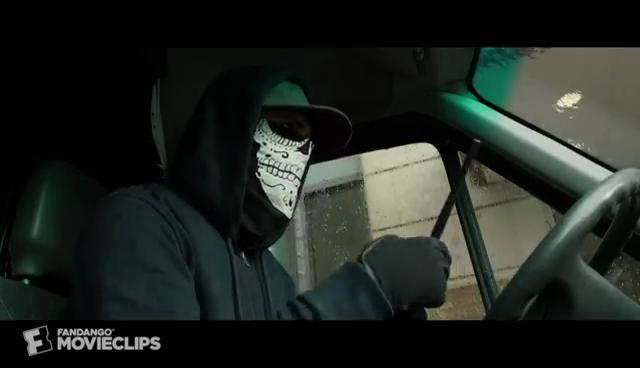criminal: (89, 62, 452, 320)
